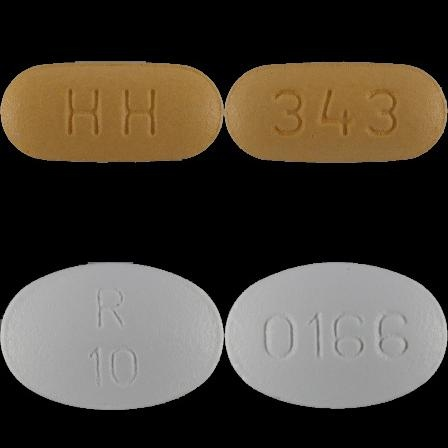43547-369: (0, 0, 224, 224)
